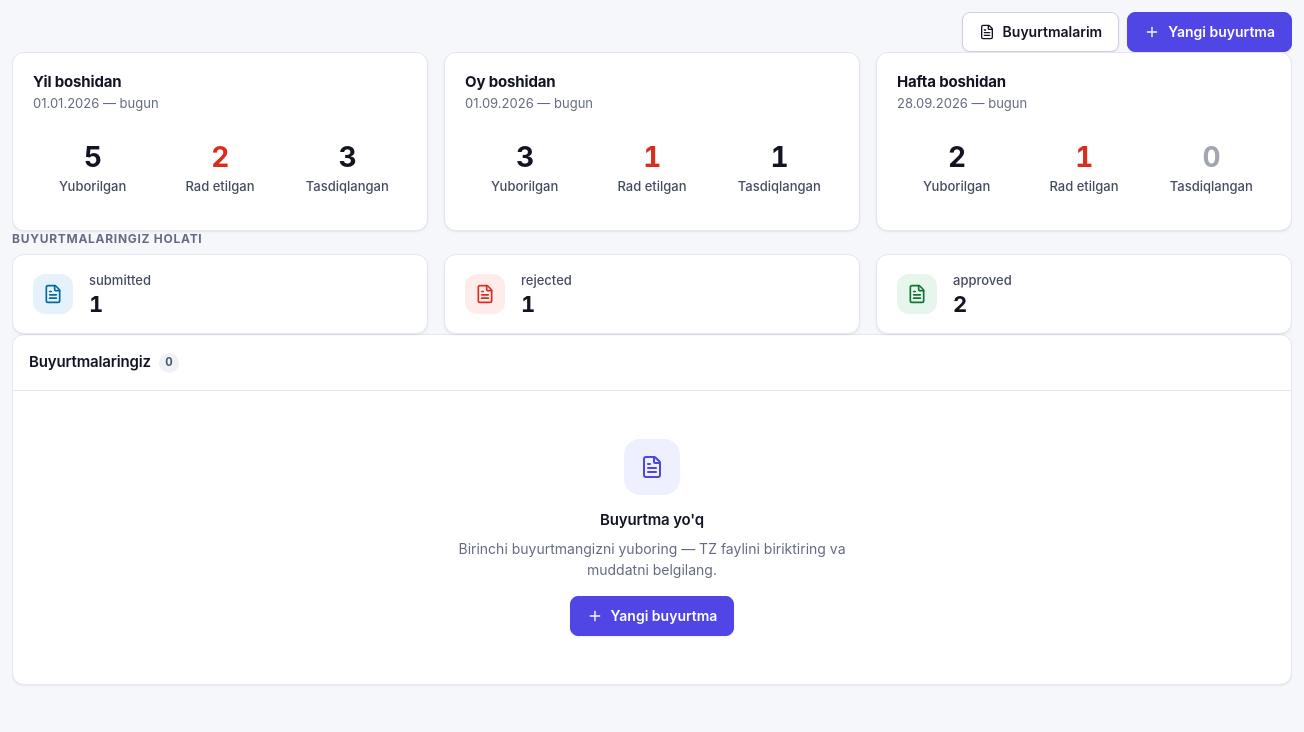
Scenario: DepartmentHome › yil/oy/hafta kartalari boshqa bosh panellardagidek; raqam bosilsa ro'yxat shu davr va toifa bo'yicha
Expected: the heading "Yil boshidan" is shown, [33,72,122,91]
Expected: the heading "Oy boshidan" is shown, [465,72,556,91]
Click the button "1 Rad etilgan" below "28.09.2026 — bugun": (1084, 169) [1024,129,1144,210]
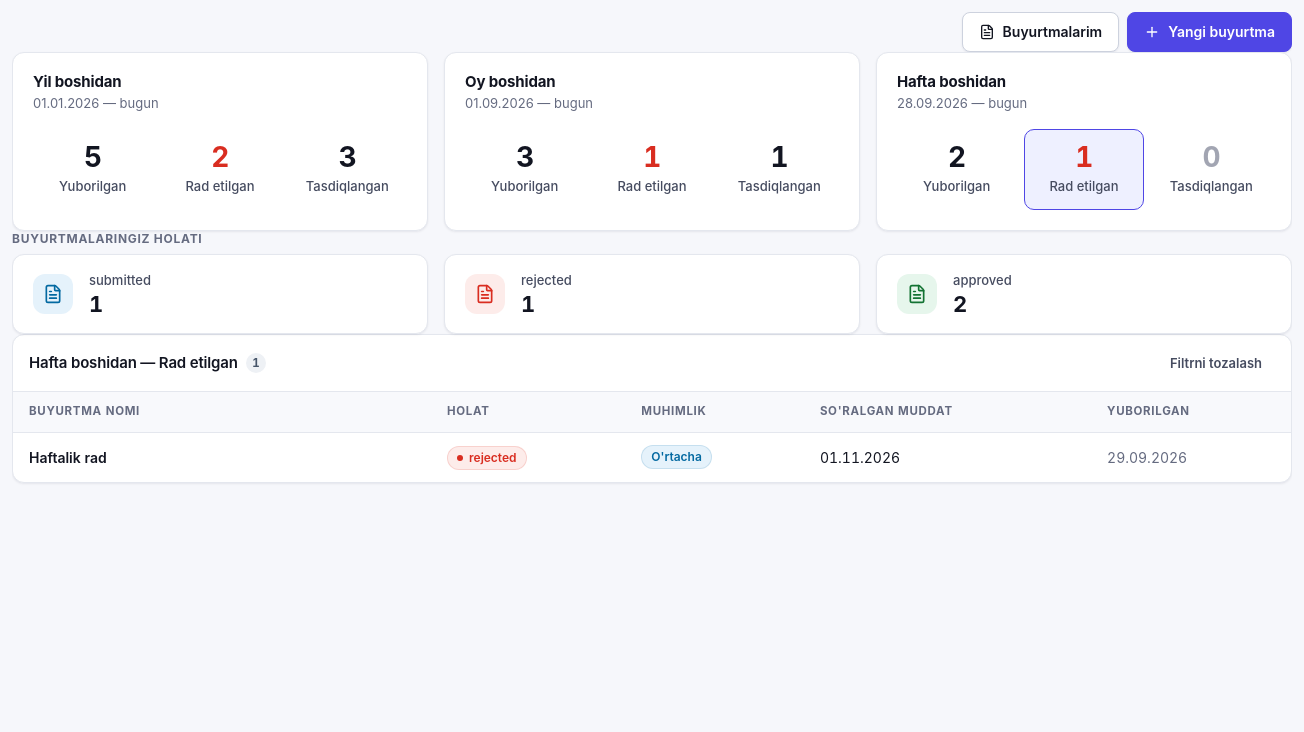
Now the text "Haftalik rad" is shown, box [29,448,107,466]
